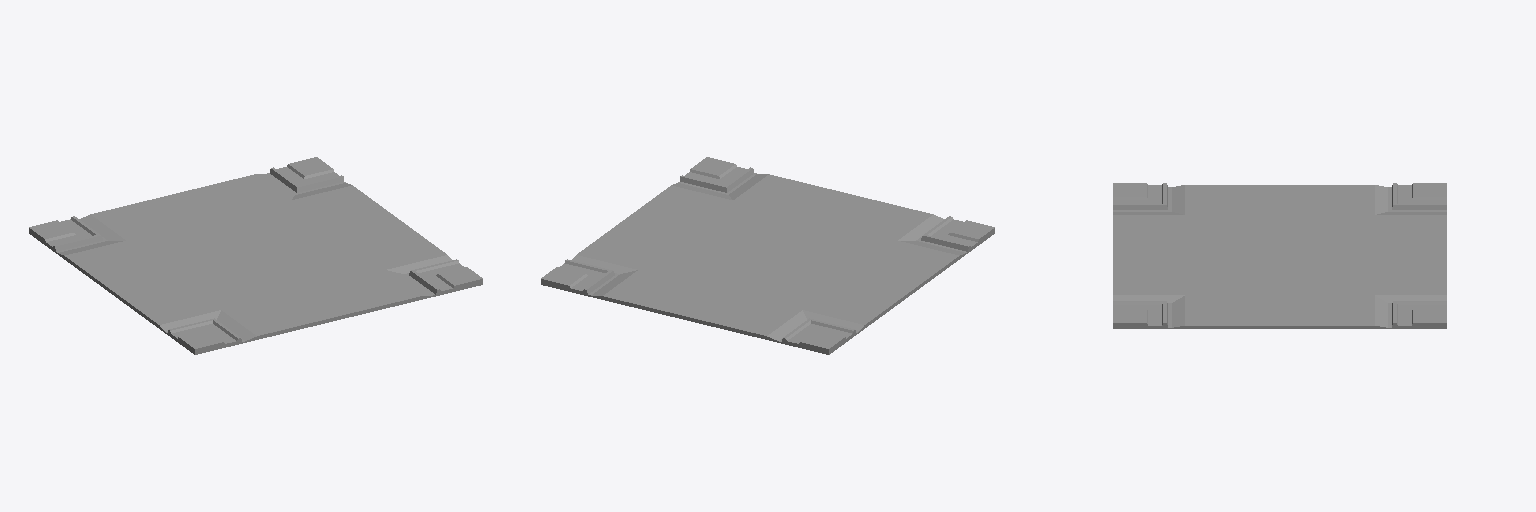
Rendered from StreetX.obj.
The picture shows the model from 3 angles: view 1: azimuth 30°, elevation 25°; view 2: azimuth 150°, elevation 25°; view 3: azimuth 270°, elevation 25°; orthographic projection.
Parts seen in each view (by area): view 1: Road-2-Lane-X_xyz_uv_100x100; view 2: Road-2-Lane-X_xyz_uv_100x100; view 3: Road-2-Lane-X_xyz_uv_100x100.
Boxes of the visible parts, x1,y1,x2,y2 form: Road-2-Lane-X_xyz_uv_100x100: [29, 157, 482, 354]; Road-2-Lane-X_xyz_uv_100x100: [541, 157, 994, 354]; Road-2-Lane-X_xyz_uv_100x100: [1113, 183, 1446, 328].
Size of the model in its own units: 100 by 2.01 by 100.